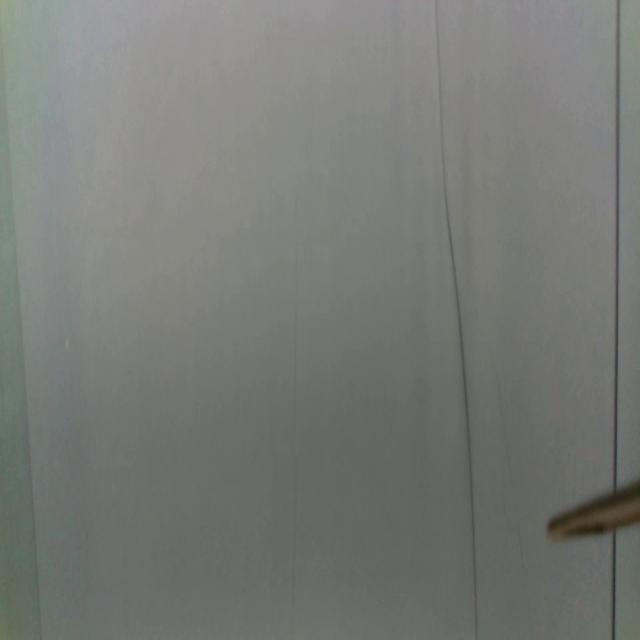crease: (434, 0, 481, 640), (5, 87, 43, 640), (492, 355, 527, 597), (611, 0, 623, 494), (289, 239, 299, 589), (610, 532, 618, 640)
